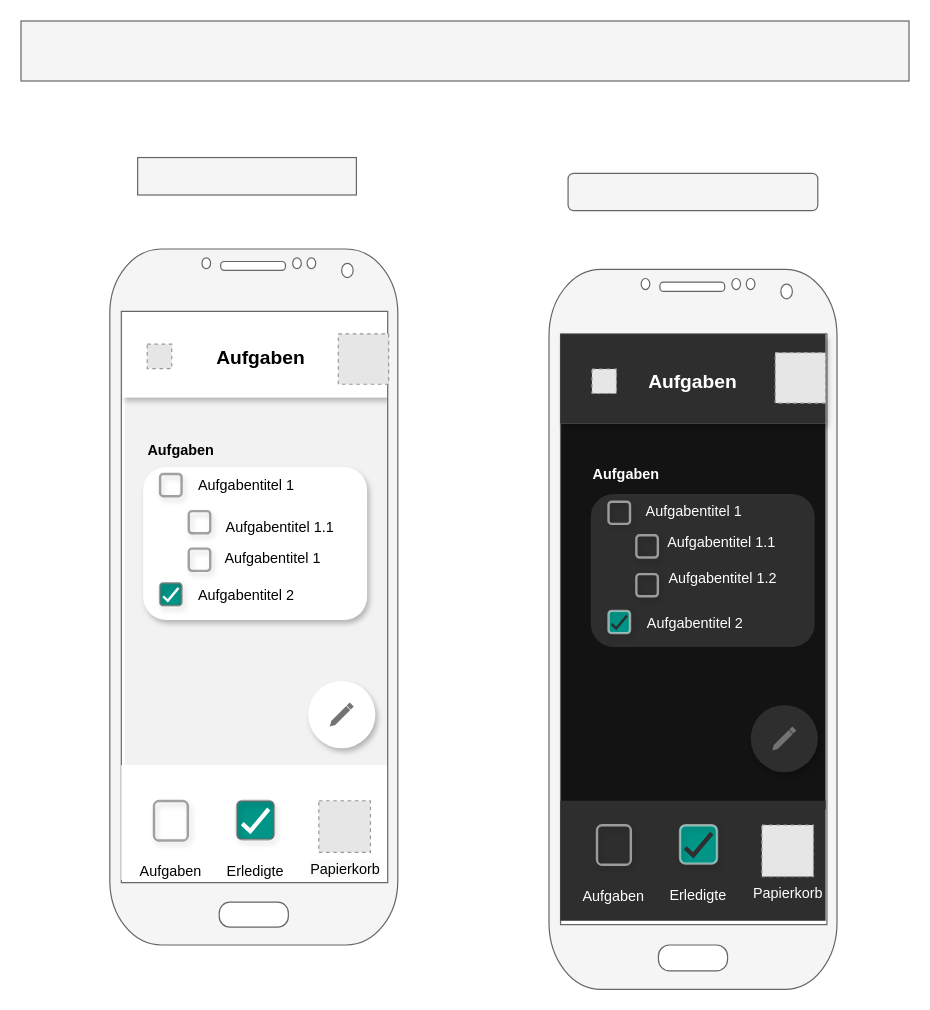
Some shapes in this 930 by 1010 pixel diagram are drawn without their labels. Grey dashed boxes stand in for pictures. The centre of each missing label's shape, as x and y in pixels:
"Dark - Theme" belongs at [692,191].
"Light - Theme" belongs at [246,175].
"Mockup / Design" belongs at [464,50].
